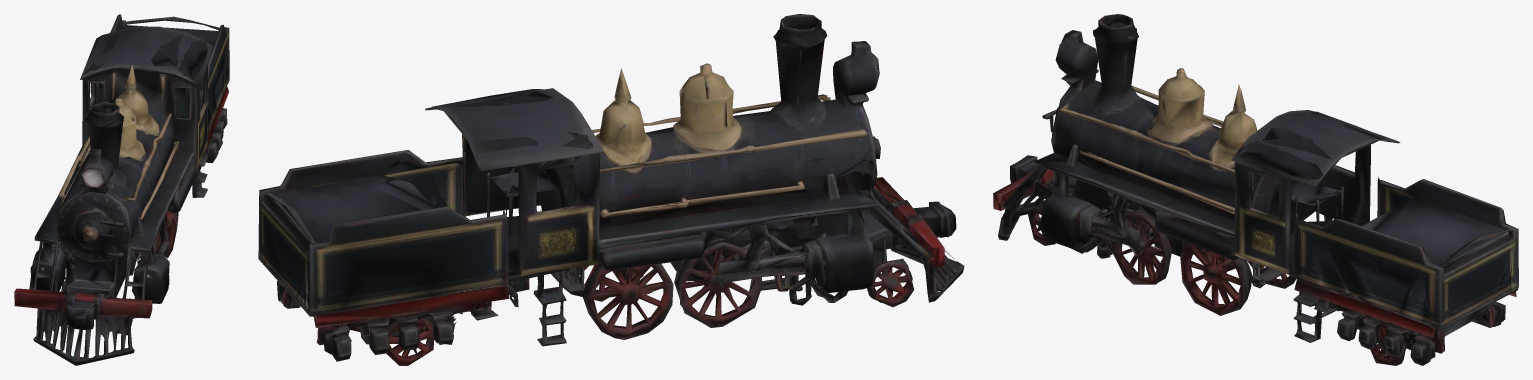
The model's file is locomotora.movil.glb.
3 views of the same model, side by side, from view 1: azimuth 30°, elevation 25°; view 2: azimuth 150°, elevation 25°; view 3: azimuth 270°, elevation 25° (orthographic). The views are drawn at different scales.
Parts seen in each view (by area): view 1: geometry_0; view 2: geometry_0; view 3: geometry_0.
Boxes of the visible parts, x1,y1,x2,y2 form: geometry_0: (14, 14, 229, 365); geometry_0: (258, 14, 964, 365); geometry_0: (993, 14, 1518, 365).
Size of the model in its own units: 0.9159 by 0.4905 by 0.9963.
1 material, 1 textured.
